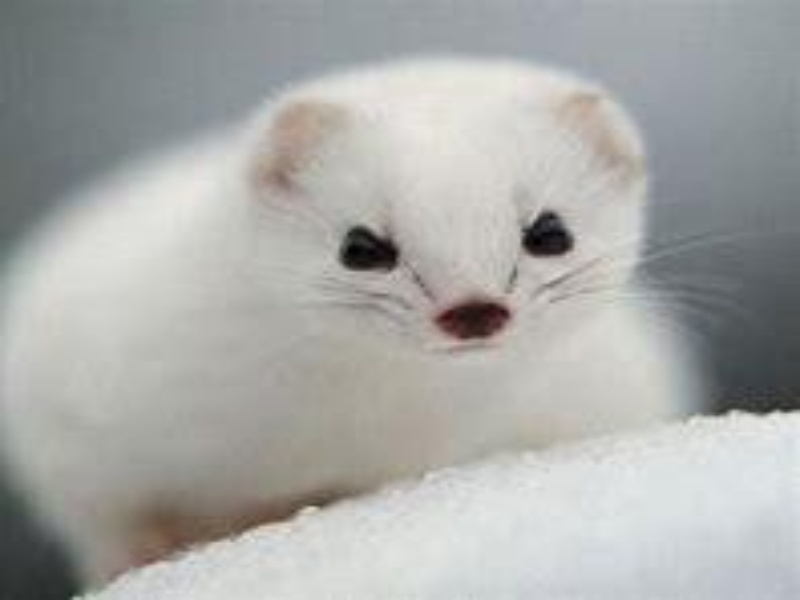minkish: (3, 54, 707, 592)
